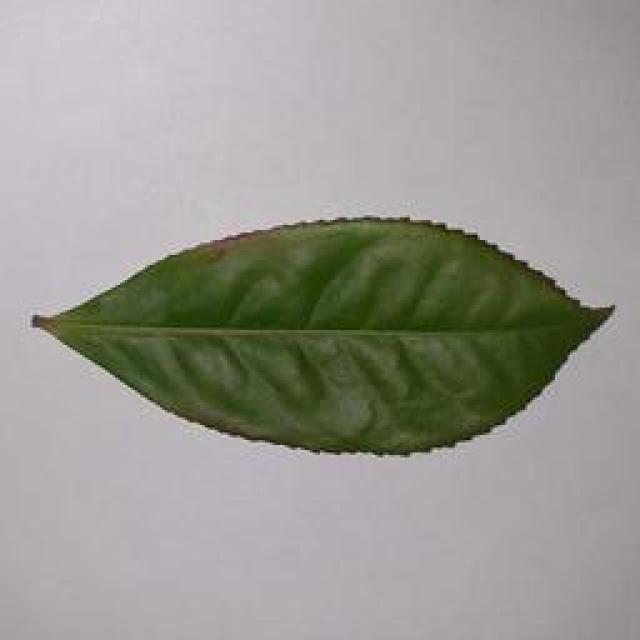Red Leaf Spot: (24, 208, 626, 459)
